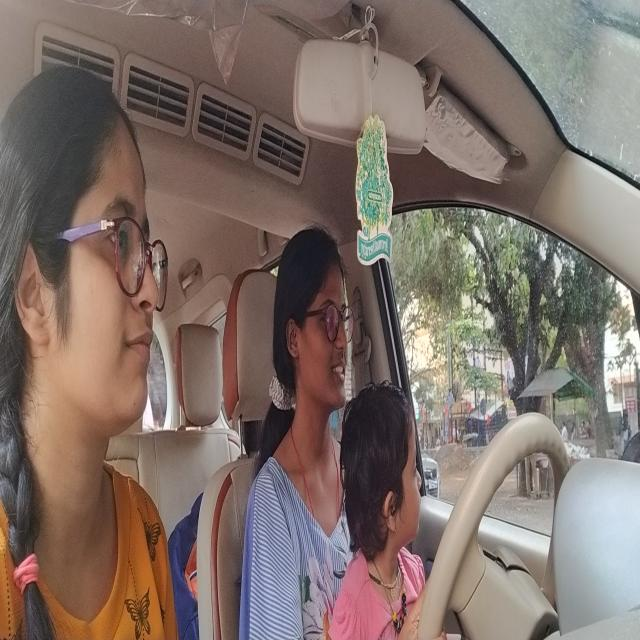child: (355, 381, 428, 553)
person: (22, 79, 154, 426), (280, 231, 353, 419)
